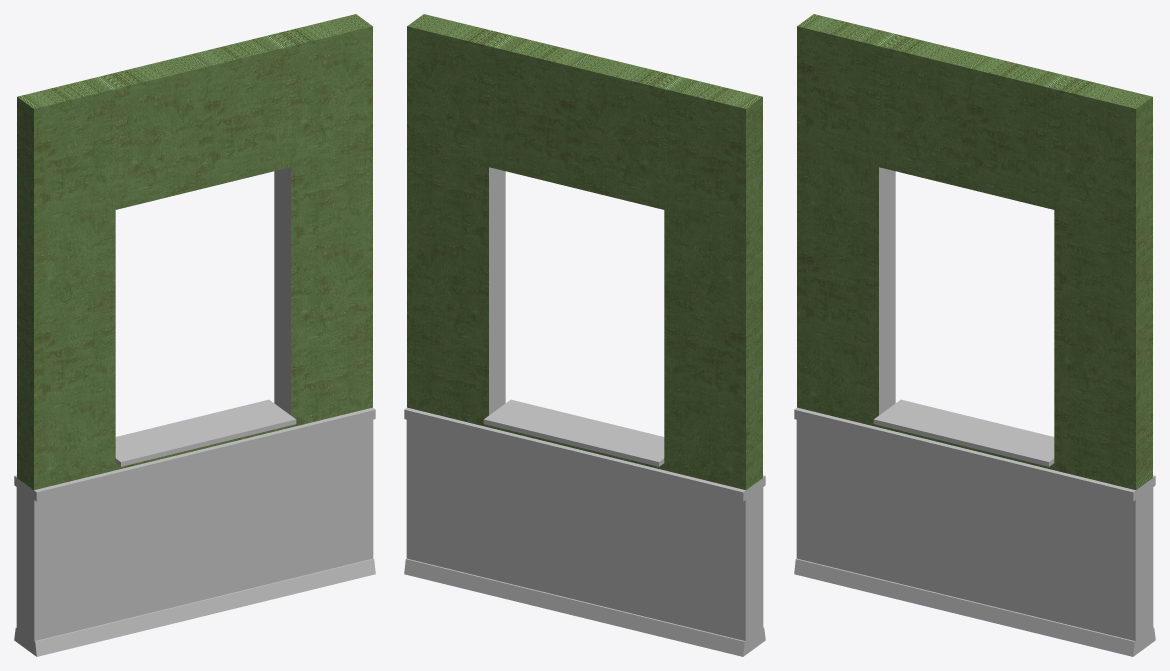
Rendered from OfficeWindowSpace01.fbx.
3 renders of one model, left to right at view 1: azimuth 30°, elevation 25°; view 2: azimuth 150°, elevation 25°; view 3: azimuth 330°, elevation 25°, orthographic.
Parts seen in each view (by area): view 1: Cube.021; view 2: Cube.021; view 3: Cube.021.
Boxes of the visible parts, box(x1,y1,x2,y2) form: Cube.021: box(14, 14, 375, 656); Cube.021: box(404, 14, 765, 656); Cube.021: box(794, 14, 1155, 656).
Bounding box in the file's own units: 650 × 1000 × 89.86.
